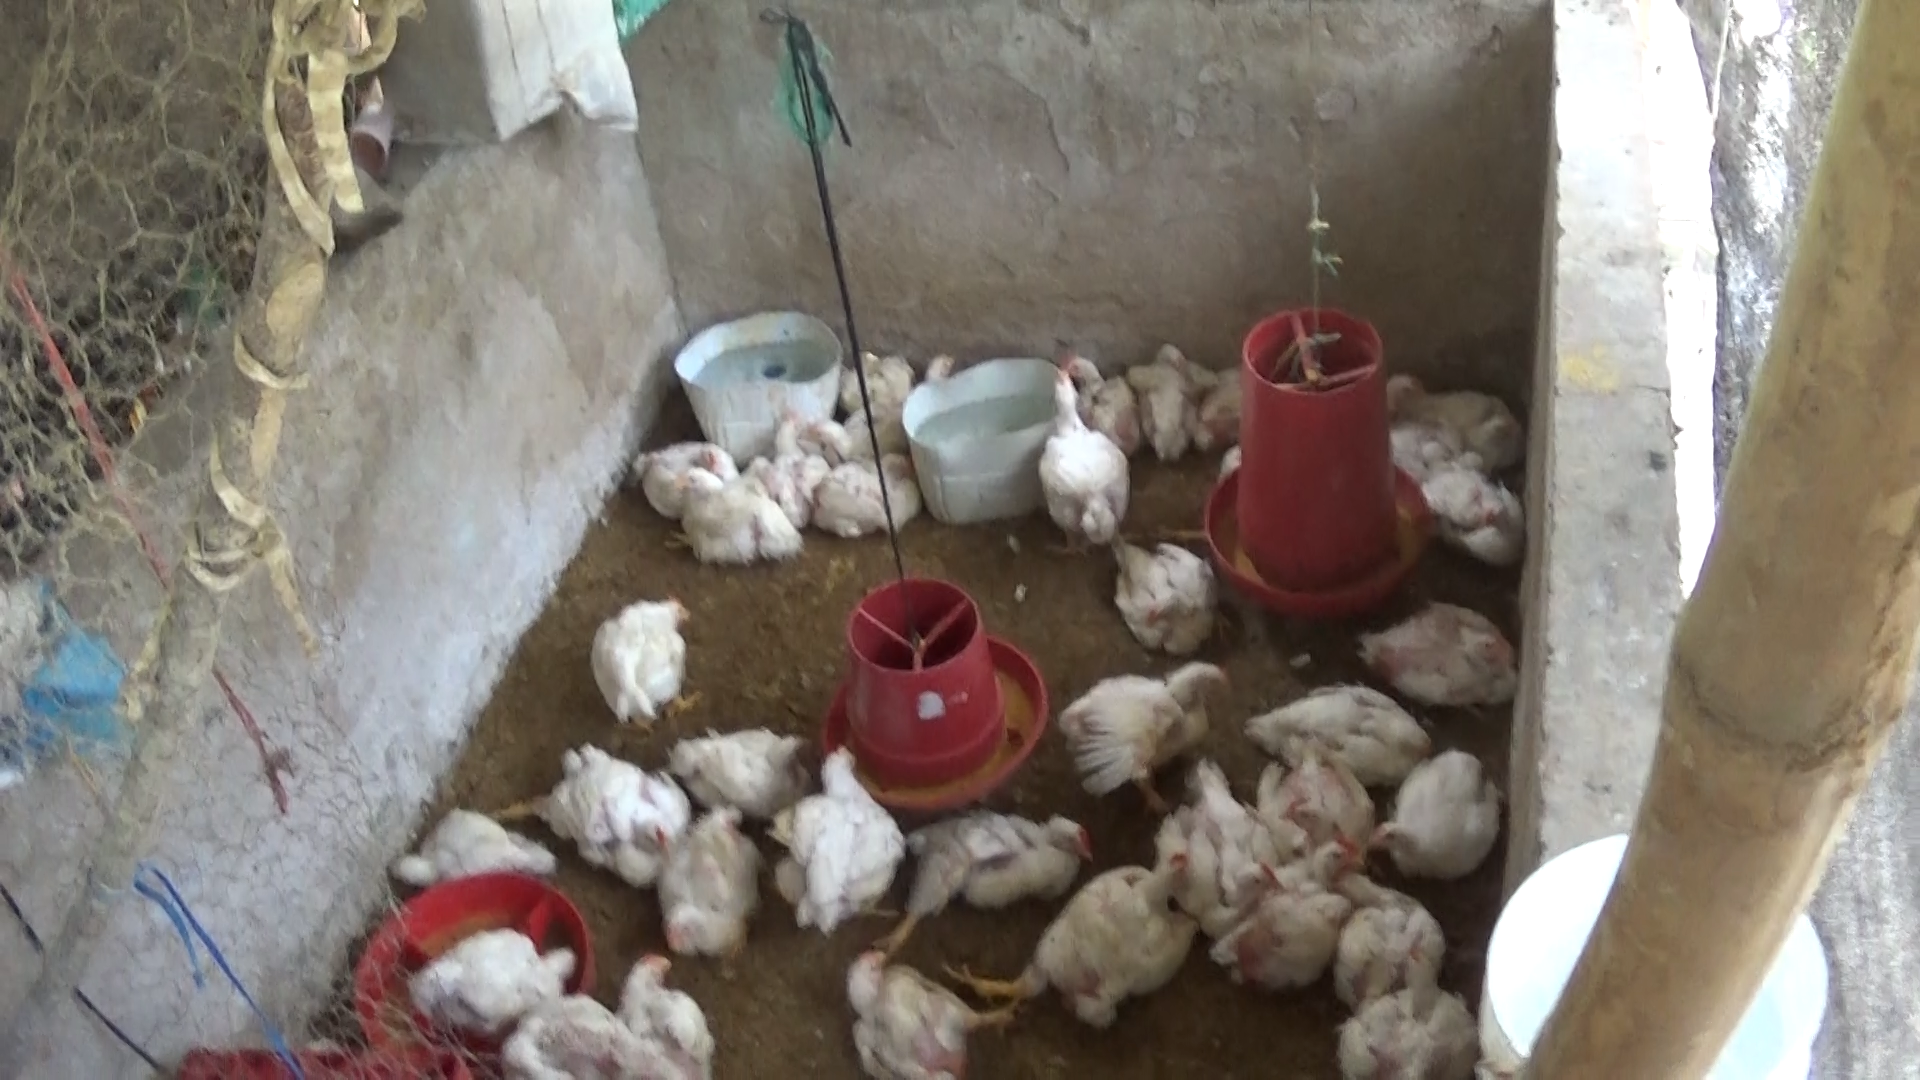Pollos: (942, 852, 1205, 1022), (855, 800, 1095, 953), (480, 748, 684, 895), (1211, 833, 1371, 1002), (1056, 649, 1241, 794), (767, 737, 906, 923), (628, 787, 750, 967), (1151, 757, 1284, 920), (1226, 676, 1435, 777), (833, 945, 988, 1080), (404, 909, 576, 1029), (591, 588, 727, 735), (1357, 744, 1495, 886), (381, 803, 560, 907), (1360, 595, 1520, 709), (1038, 371, 1139, 551), (1327, 862, 1440, 1005), (1250, 742, 1386, 857), (669, 713, 814, 818), (1102, 531, 1222, 657), (676, 451, 804, 568), (616, 949, 725, 1080), (1336, 982, 1476, 1080), (798, 419, 913, 535), (498, 992, 640, 1080), (632, 435, 738, 549), (1411, 455, 1523, 560), (1058, 336, 1145, 447), (740, 407, 827, 513), (1133, 343, 1207, 455), (1422, 388, 1522, 463), (849, 348, 957, 407), (1382, 368, 1428, 414)
